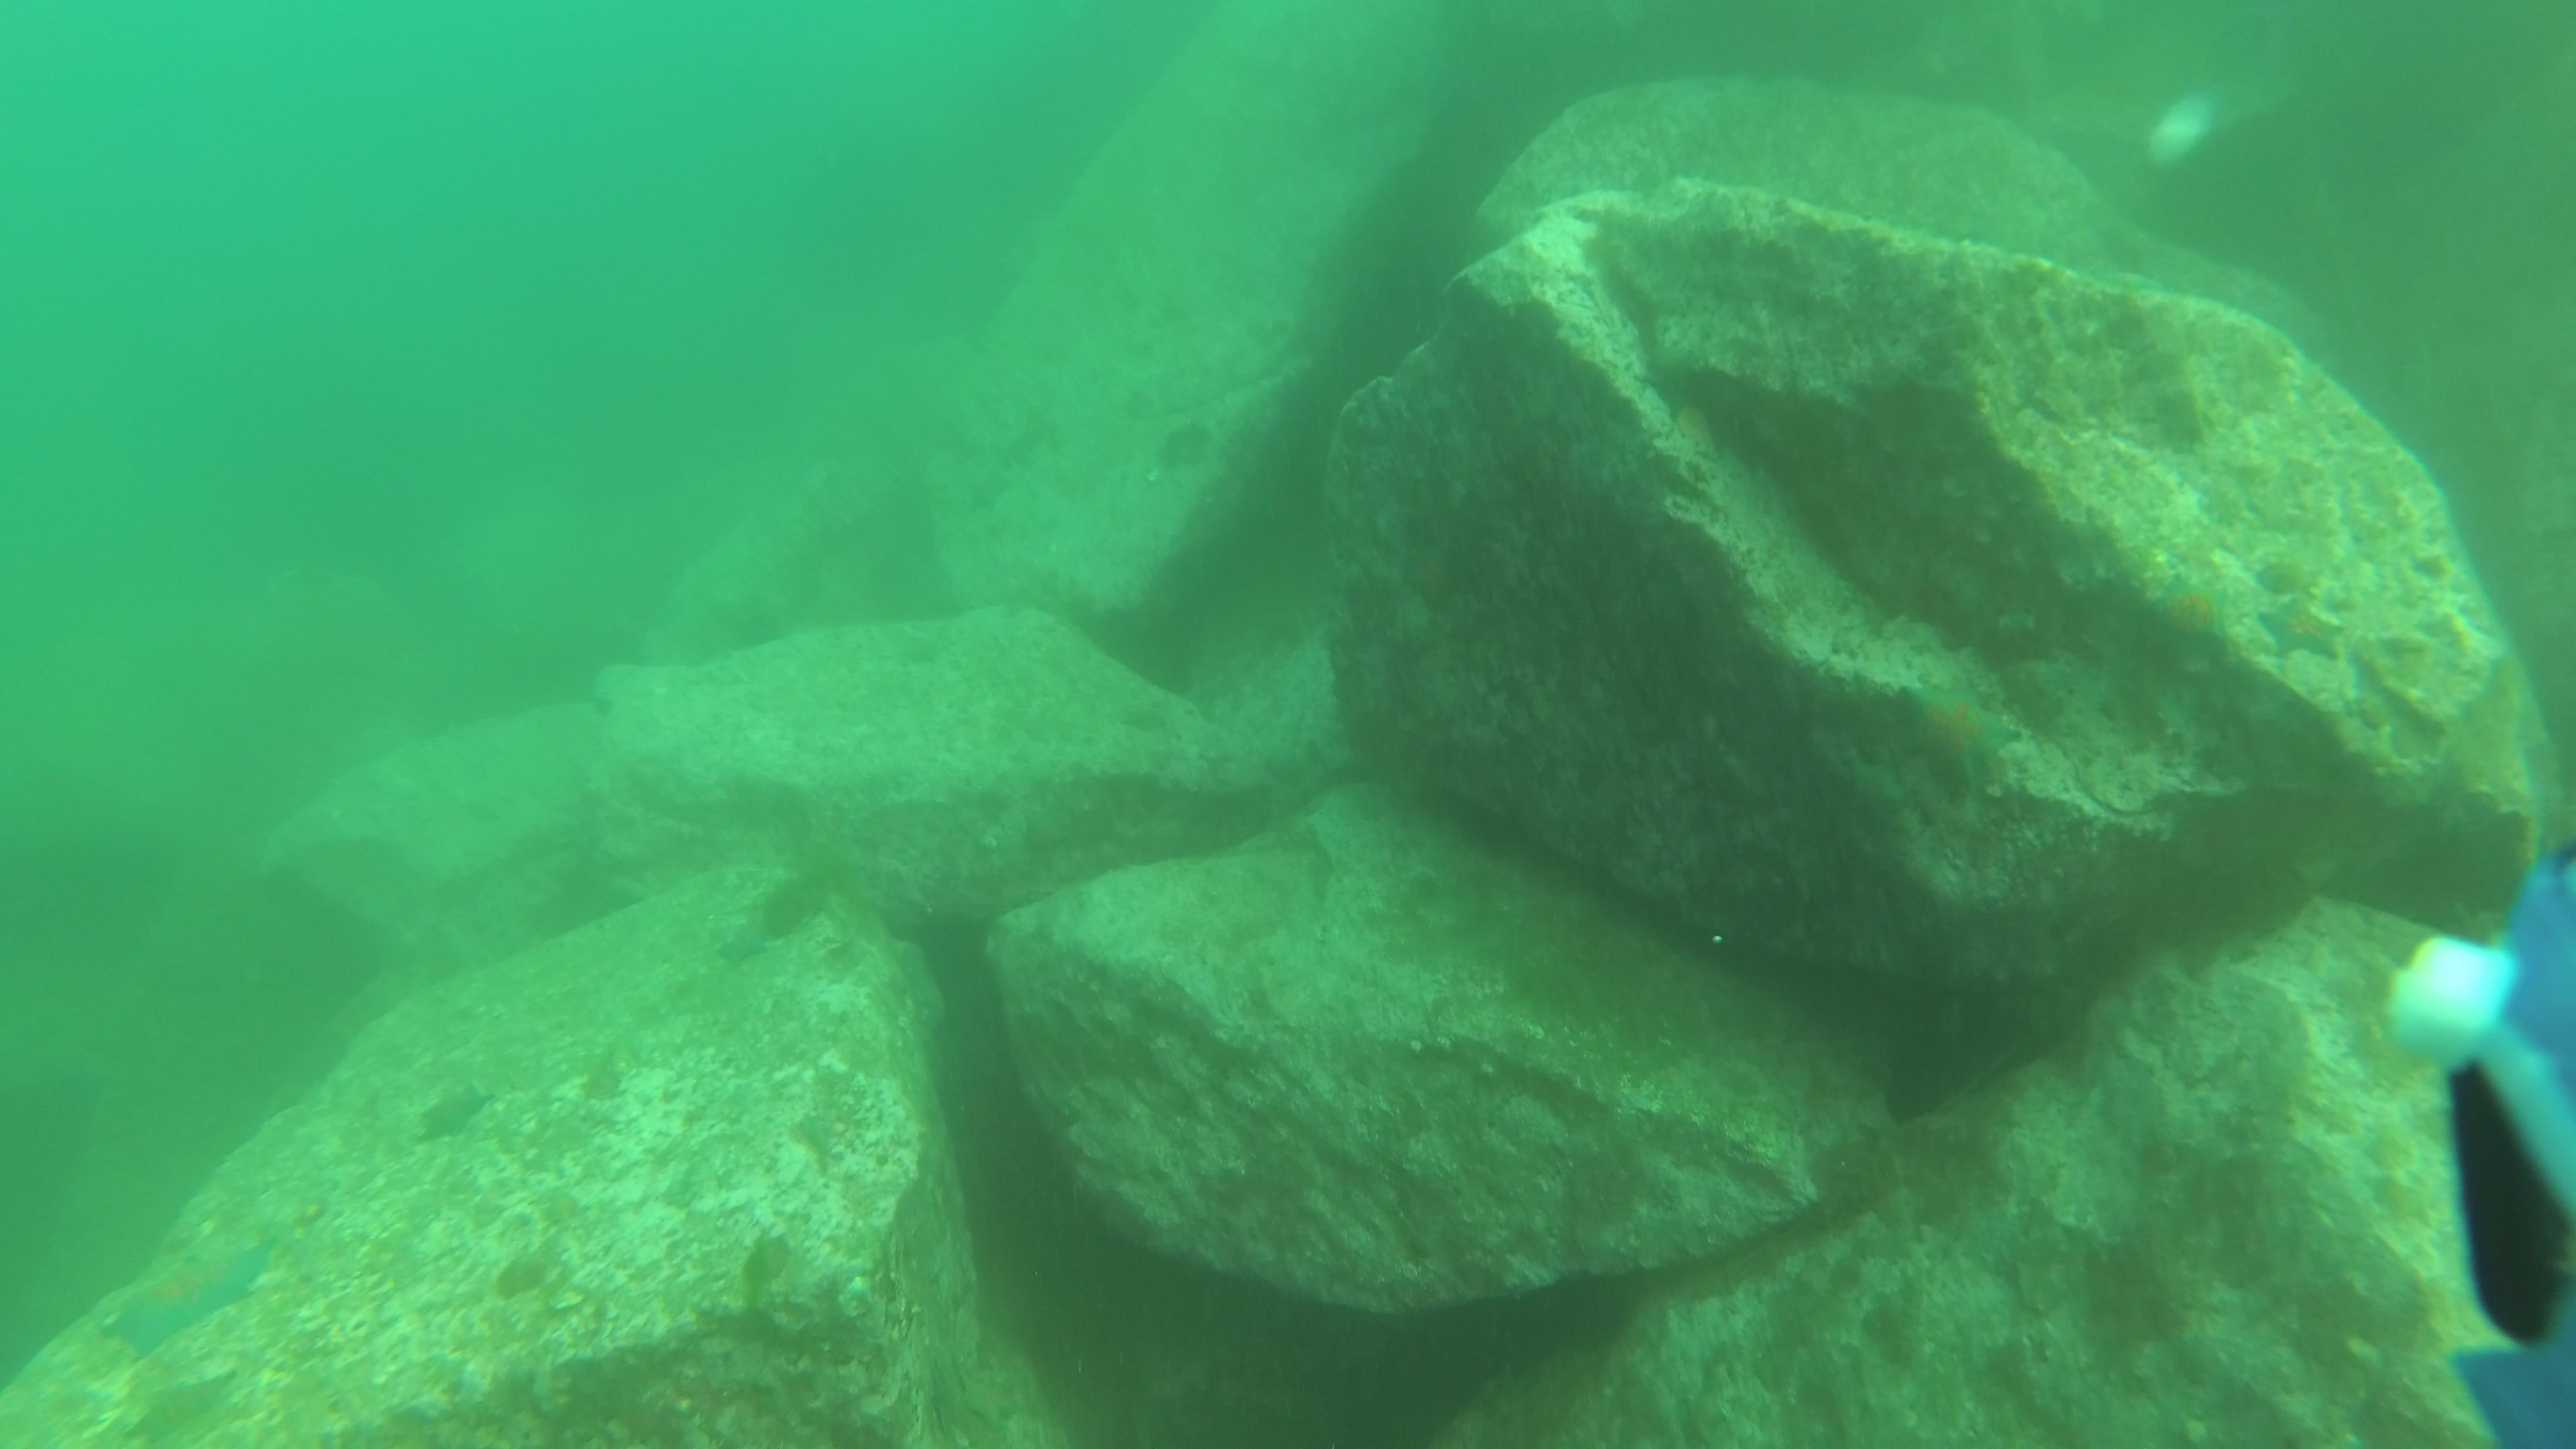echinus: (1152, 416, 1221, 474)
starfish: (92, 1226, 292, 1364), (1888, 674, 2029, 803), (2143, 563, 2238, 658), (2254, 586, 2351, 663), (410, 1077, 501, 1146), (713, 929, 771, 975), (893, 630, 950, 672), (1120, 699, 1173, 738)
